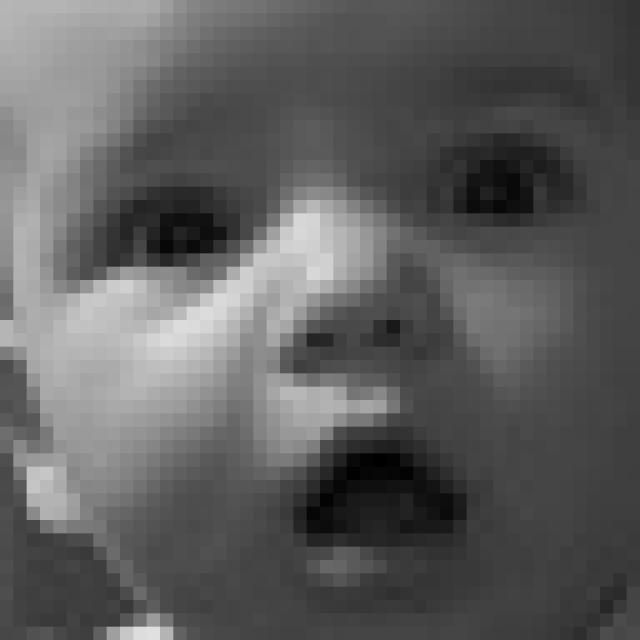surprise: (51, 72, 604, 614)
